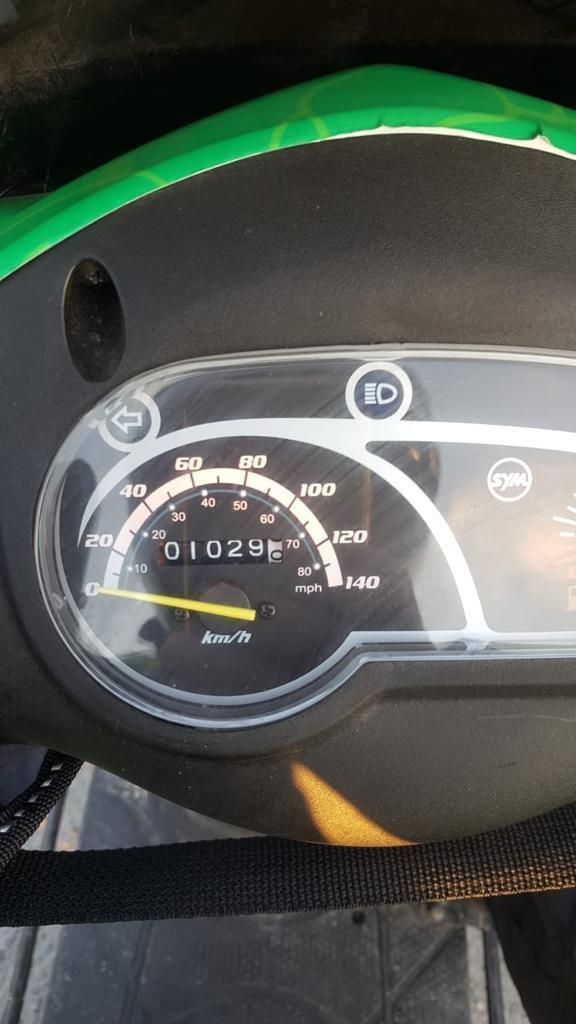0: (162, 540, 180, 562), (204, 540, 223, 559)
1: (187, 540, 198, 561)
2: (225, 539, 244, 558)
9: (247, 538, 265, 557), (269, 549, 282, 564)
odometer: (154, 535, 286, 569)
